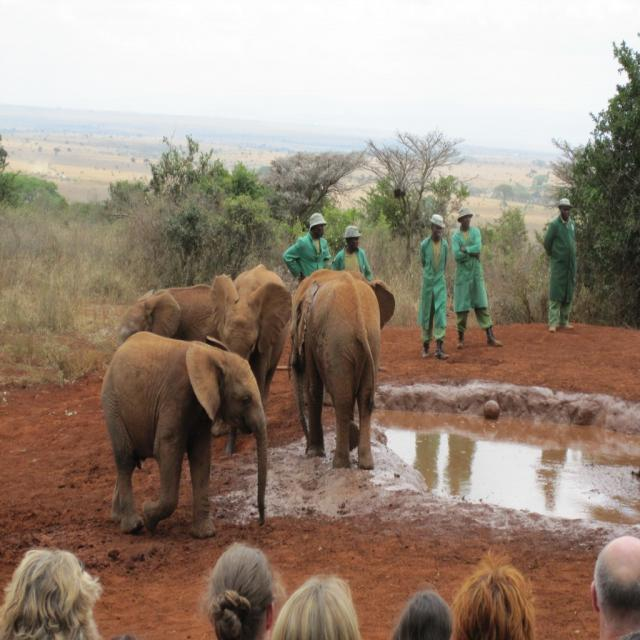elephant: (101, 324, 269, 530), (120, 268, 294, 442), (274, 258, 398, 480)
